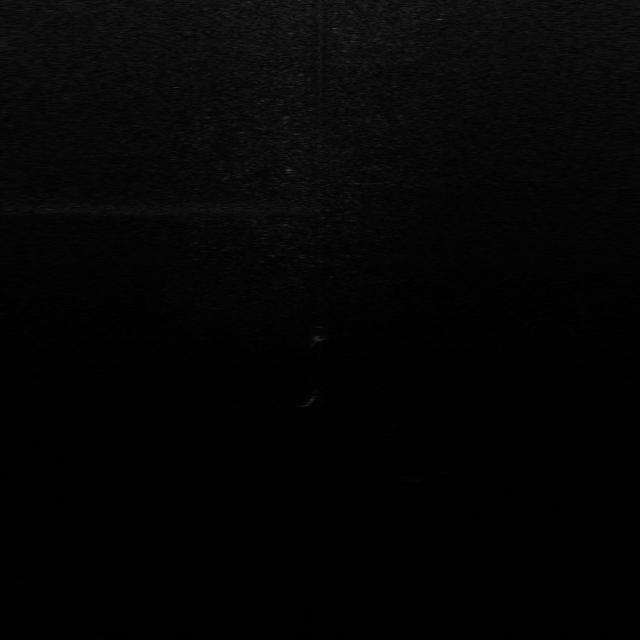ball: (306, 376, 336, 396)
circle cage: (308, 323, 333, 342)
tyre: (400, 463, 450, 482)
